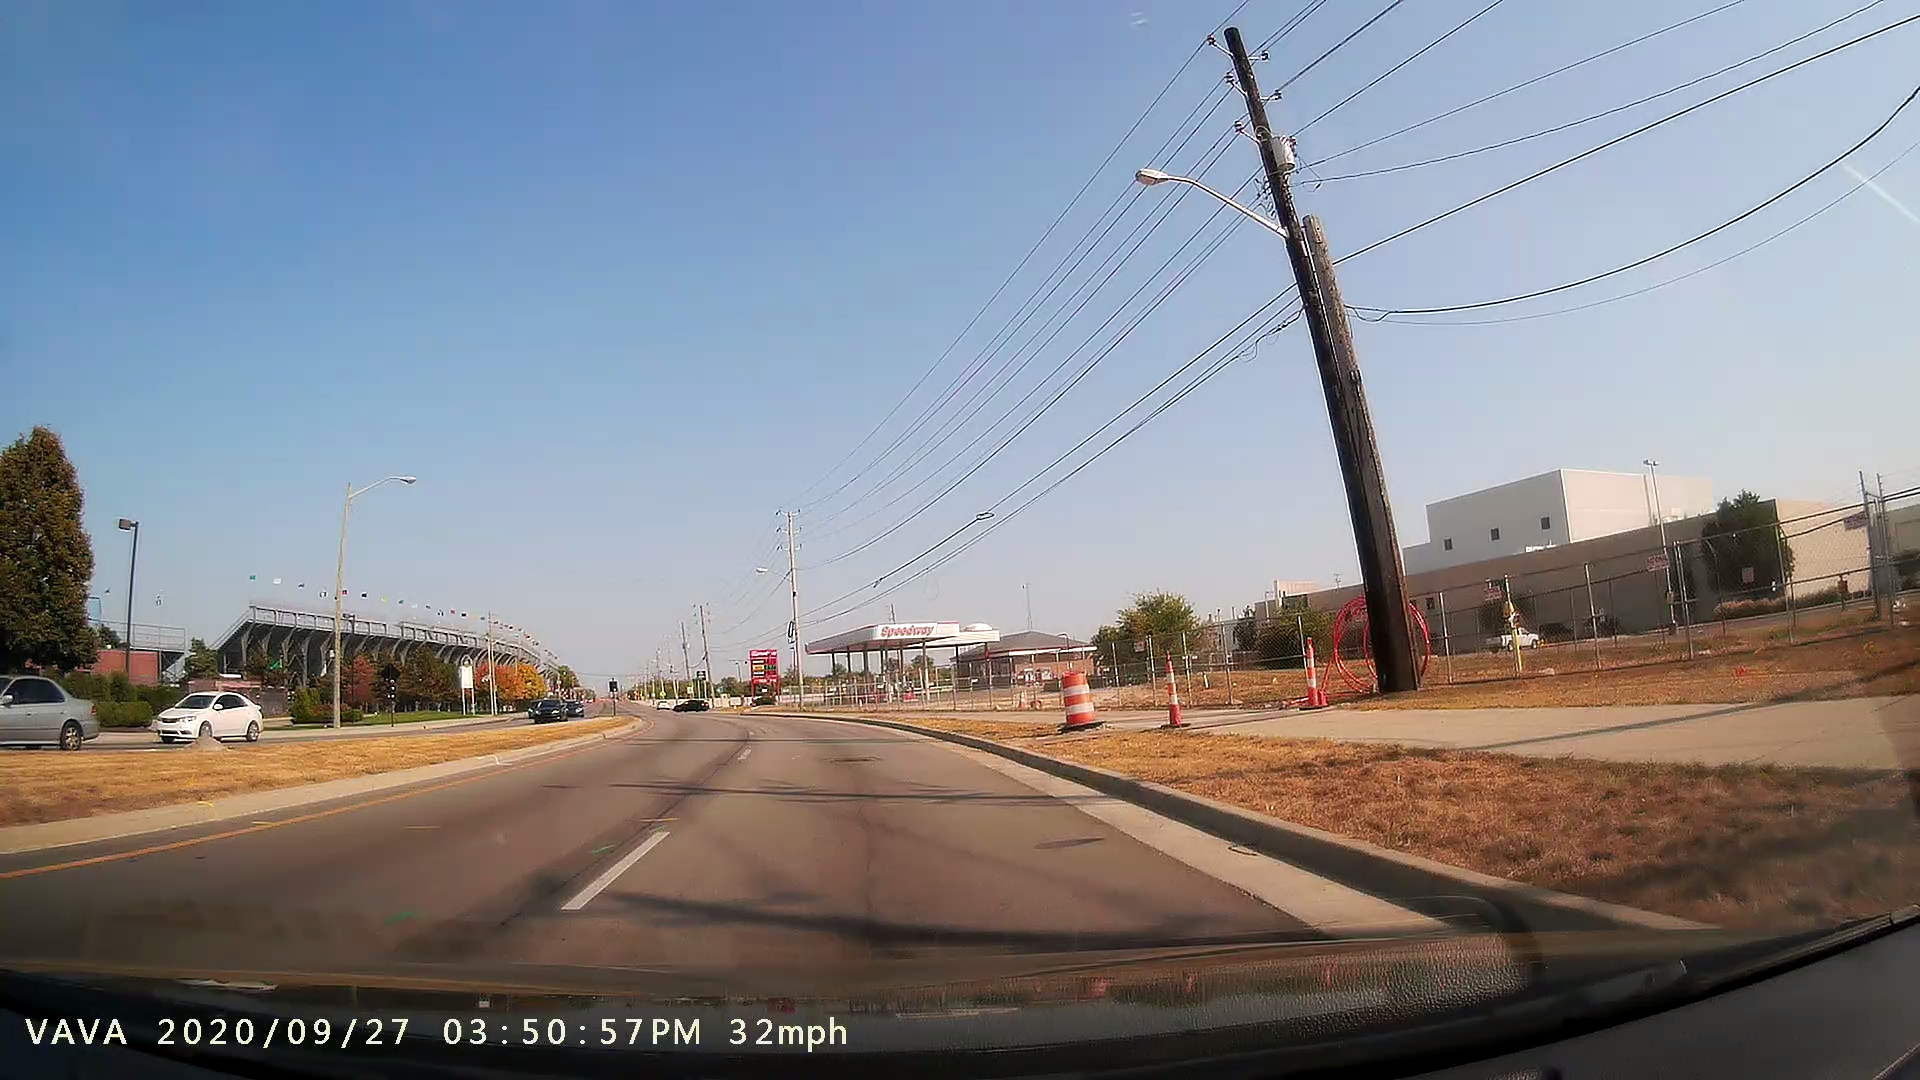const_barrel: (1048, 663, 1109, 741)
const_looper_cone: (1159, 640, 1189, 737)
